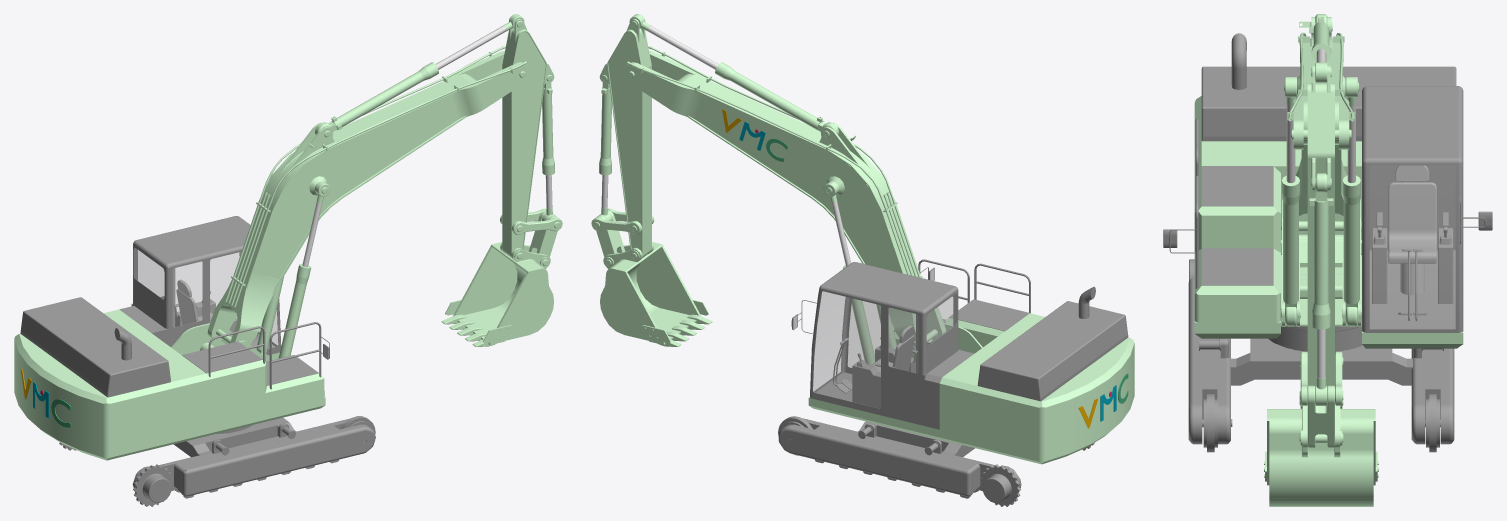
File: cet200.glb
3 renders of one model, left to right at view 1: azimuth 30°, elevation 25°; view 2: azimuth 150°, elevation 25°; view 3: azimuth 270°, elevation 25°, orthographic. The views are drawn at different scales.
Visible parts, largest first — view 1: Solid 1.007, Solid 2, Solid 3.002, Solid.024, Solid.022, Solid 2.008, Solid 1.003, Bucket.001, SideStep.001, RevolvingFrame, Window_Rear_R, Window_L (+14 smaller); view 2: Solid 1.007, Solid 1.003, Solid 2, Solid 3.002, Solid.024, Solid.022, Solid 2.008, Window_L, Bucket.001, Window_R, RevolvingFrame, Window_Front (+13 smaller); view 3: Solid 1.003, Window_Front, Solid 2, Bucket.001, Solid 3.002, SideStep.001, Solid 2.008, Solid 1.007, Solid 3, RevolvingFrame, Solid.024, Solid 5 (+21 smaller).
Boxes of the visible parts, x1,y1,x2,y2 form: Solid 1.007: (207, 47, 530, 344); Solid 2: (132, 417, 375, 498); Solid 3.002: (20, 297, 170, 397); Solid.024: (103, 309, 208, 449); Solid.022: (14, 333, 110, 460); Solid 2.008: (502, 19, 554, 257); Solid 1.003: (131, 216, 281, 355); Bucket.001: (453, 242, 554, 344); SideStep.001: (207, 360, 324, 425); RevolvingFrame: (108, 352, 325, 460); Window_Rear_R: (173, 262, 202, 326); Window_L: (176, 253, 238, 311); Solid 1.007: (623, 47, 946, 341); Solid 1.003: (810, 262, 958, 425); Solid 2: (778, 418, 1021, 498); Solid 3.002: (977, 301, 1128, 401); Solid.024: (939, 313, 1044, 453); Solid.022: (1038, 337, 1134, 464); Solid 2.008: (599, 18, 651, 257); Window_L: (813, 291, 880, 408); Bucket.001: (600, 242, 700, 344); Window_R: (848, 299, 915, 367); RevolvingFrame: (808, 397, 1040, 463); Window_Front: (813, 292, 845, 390); Solid 1.003: (1362, 86, 1463, 332); Window_Front: (1370, 166, 1455, 328); Solid 2: (1188, 278, 1454, 444); Bucket.001: (1267, 405, 1375, 506); Solid 3.002: (1201, 66, 1456, 141); SideStep.001: (1194, 167, 1280, 322); Solid 2.008: (1307, 65, 1334, 386); Solid 1.007: (1287, 17, 1355, 215); Solid 3: (1388, 165, 1436, 263); RevolvingFrame: (1194, 240, 1463, 348); Solid.024: (1194, 97, 1361, 239); Solid 5: (1201, 166, 1273, 206).
Bounding box in the file's own units: 8.49 × 5.76 × 3.25.
